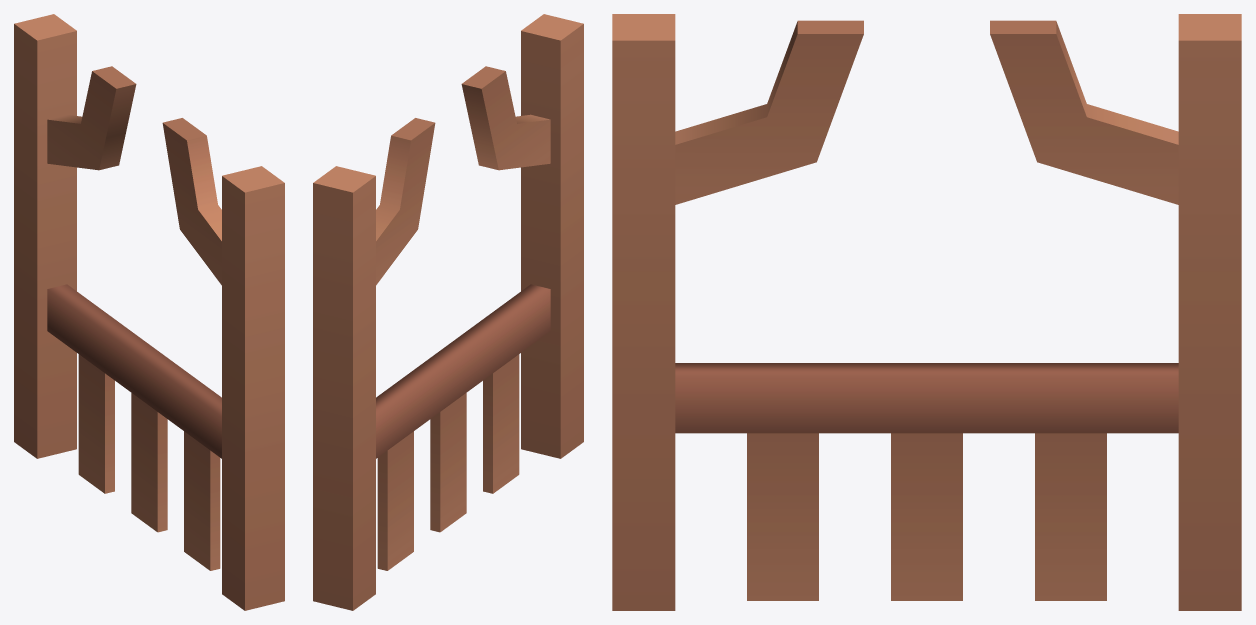
File: kenney-fantasy-town-balcony-wall-fence.glb
The picture shows the model from 3 angles, left to right: view 1: azimuth 30°, elevation 25°; view 2: azimuth 150°, elevation 25°; view 3: azimuth 270°, elevation 25°; orthographic projection. The views are drawn at different scales.
Parts seen in each view (by area): view 1: balcony-wall-fence; view 2: balcony-wall-fence; view 3: balcony-wall-fence.
Boxes of the visible parts, box(x1,y1,x2,y2) form: balcony-wall-fence: box(14, 14, 284, 610); balcony-wall-fence: box(313, 14, 583, 610); balcony-wall-fence: box(612, 14, 1241, 610).
Bounding box in the file's own units: 0.1 × 1 × 1.
1 material, 1 textured.
